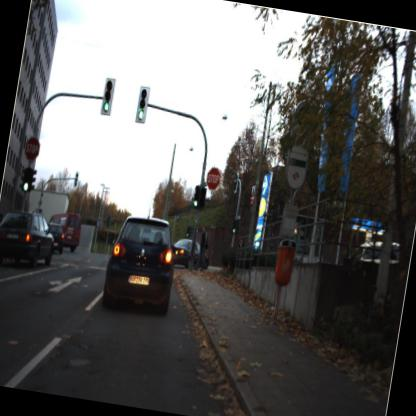other: (19, 134, 43, 163), (203, 162, 223, 192)
